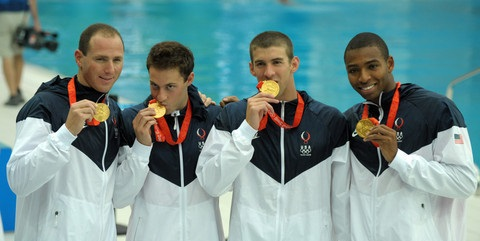face: (345, 48, 389, 99), (85, 41, 127, 91), (254, 47, 292, 97), (149, 70, 186, 111)
